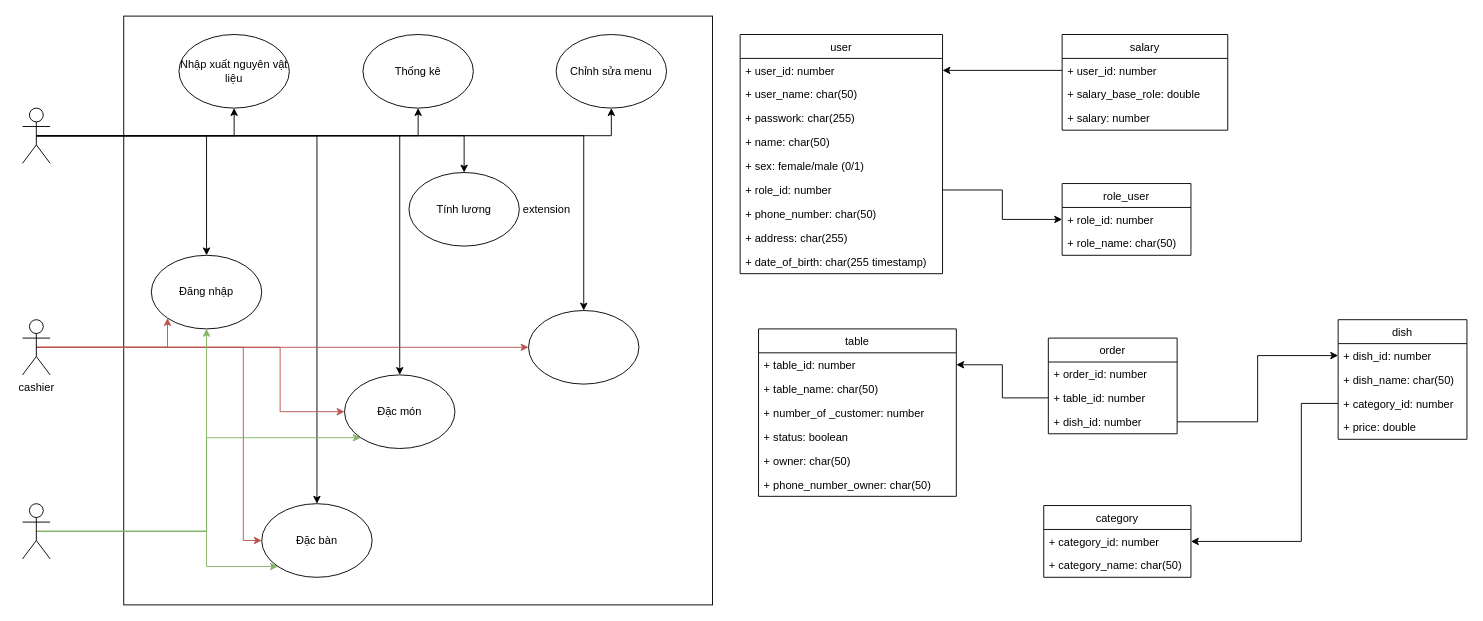
The diagram is 1483 pixels wide and 621 high, and some of its shapes have lost their labels. The shapes that lost their labels are listed below. From the top down, each one's centre as x and y in pixels, then its label:
point 36,135: Admin
point 583,347: Thanh toán
point 36,531: member
